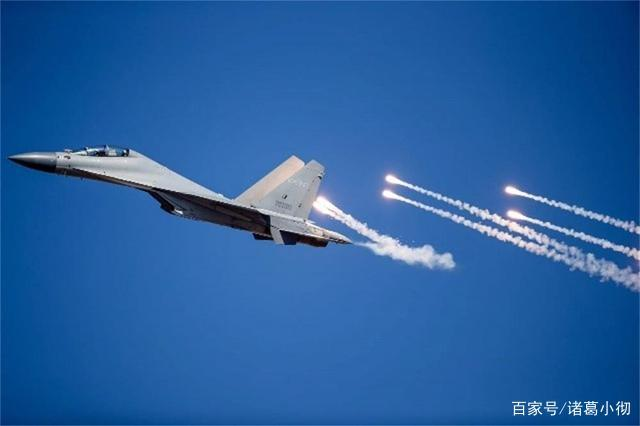airplane: (4, 139, 355, 250)
